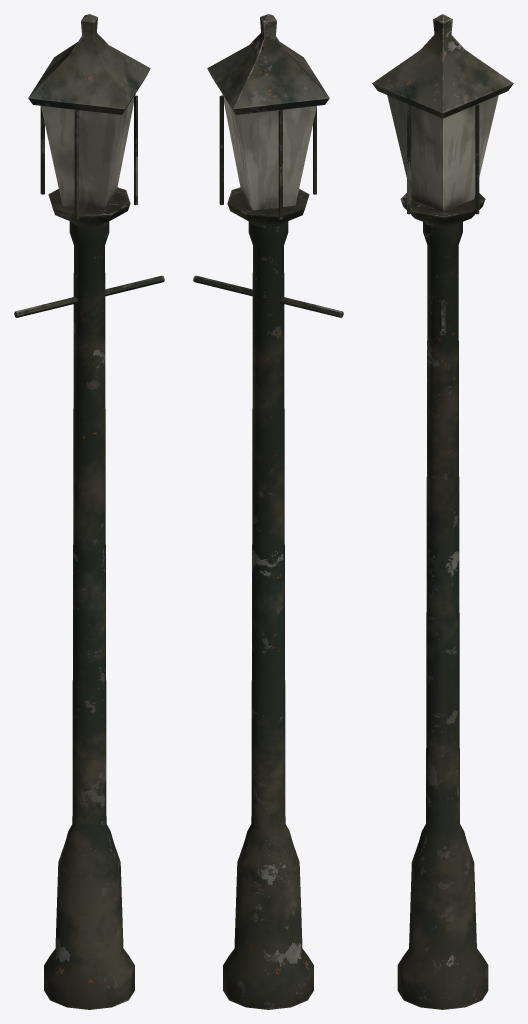
File: LampPost.fbx
The picture shows the model from 3 angles, left to right: view 1: azimuth 30°, elevation 25°; view 2: azimuth 150°, elevation 25°; view 3: azimuth 270°, elevation 25°; orthographic projection.
Visible parts, largest first — view 1: LampPost; view 2: LampPost; view 3: LampPost.
Part boxes in pixels (x1,y1,x2,y2): LampPost: (14, 14, 164, 1009); LampPost: (193, 14, 343, 1009); LampPost: (372, 14, 513, 1009).
Bounding box in the file's own units: 1.8 × 11.4 × 1.5.
1 material, 1 textured.
